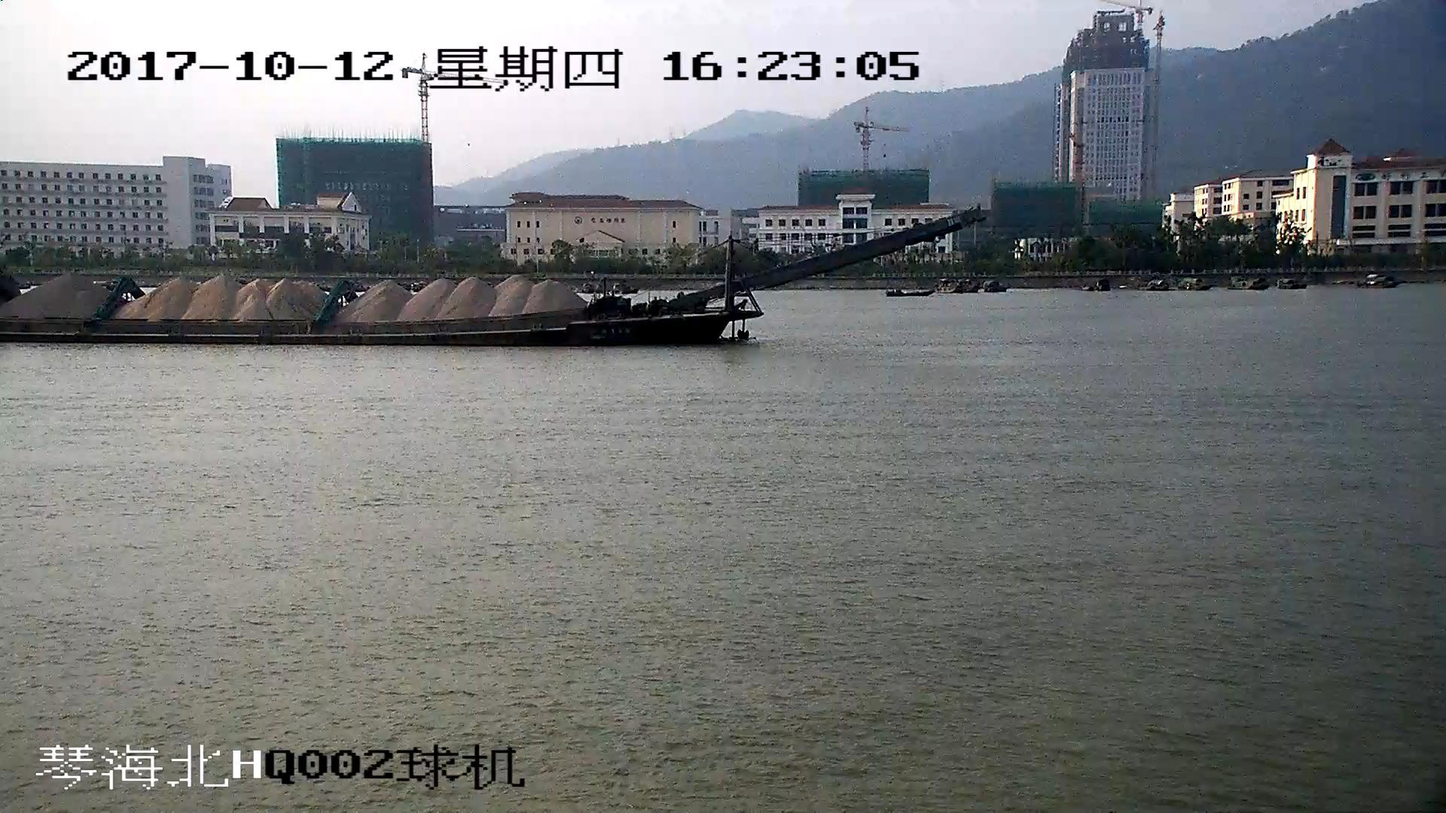ore carrier: (0, 209, 977, 340)
